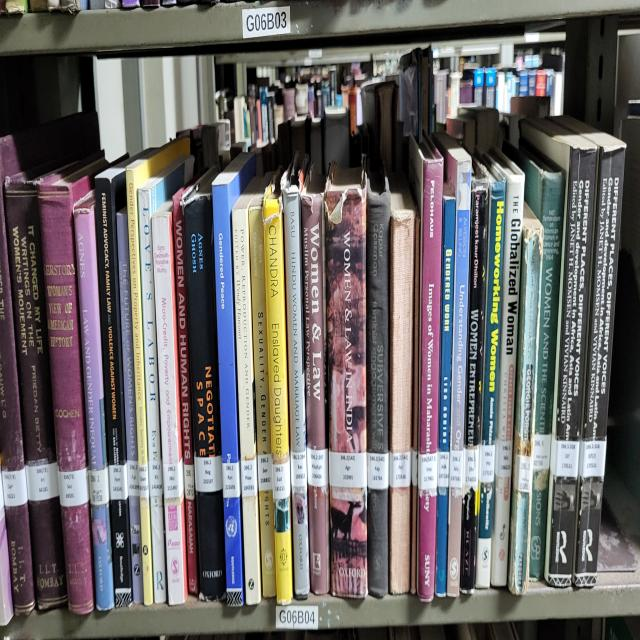Book: (522, 122, 596, 587), (38, 157, 104, 614), (126, 141, 190, 606), (5, 173, 68, 609), (510, 143, 565, 582), (574, 133, 625, 587), (212, 152, 256, 606), (182, 168, 226, 598), (325, 165, 368, 598), (435, 133, 472, 598), (74, 192, 114, 611), (95, 160, 132, 606), (409, 138, 444, 603), (0, 181, 35, 614), (491, 152, 525, 587), (152, 200, 188, 606), (508, 203, 544, 595), (138, 170, 169, 603), (231, 179, 262, 606), (281, 154, 310, 598), (301, 168, 330, 595), (476, 170, 505, 587), (264, 179, 292, 606), (249, 173, 276, 598), (172, 184, 199, 595), (116, 208, 144, 603), (389, 173, 415, 593), (366, 170, 390, 598), (435, 184, 456, 598), (465, 162, 489, 449)
Label: (329, 452, 368, 487), (25, 463, 59, 501), (550, 438, 580, 479), (58, 468, 89, 506), (579, 438, 606, 479), (194, 455, 222, 492), (2, 468, 28, 506), (306, 446, 328, 487), (162, 460, 184, 498), (89, 465, 109, 506), (368, 452, 389, 490), (389, 452, 411, 487), (419, 452, 438, 492), (272, 460, 290, 501), (290, 449, 308, 490), (109, 463, 128, 501), (241, 457, 258, 498), (514, 455, 532, 492), (464, 446, 479, 490), (495, 438, 512, 476), (534, 433, 551, 471), (222, 463, 240, 498), (449, 449, 464, 490), (480, 444, 495, 484), (258, 455, 272, 492), (149, 460, 162, 498), (438, 452, 450, 487), (128, 460, 139, 498), (184, 463, 195, 501), (139, 463, 149, 498)
